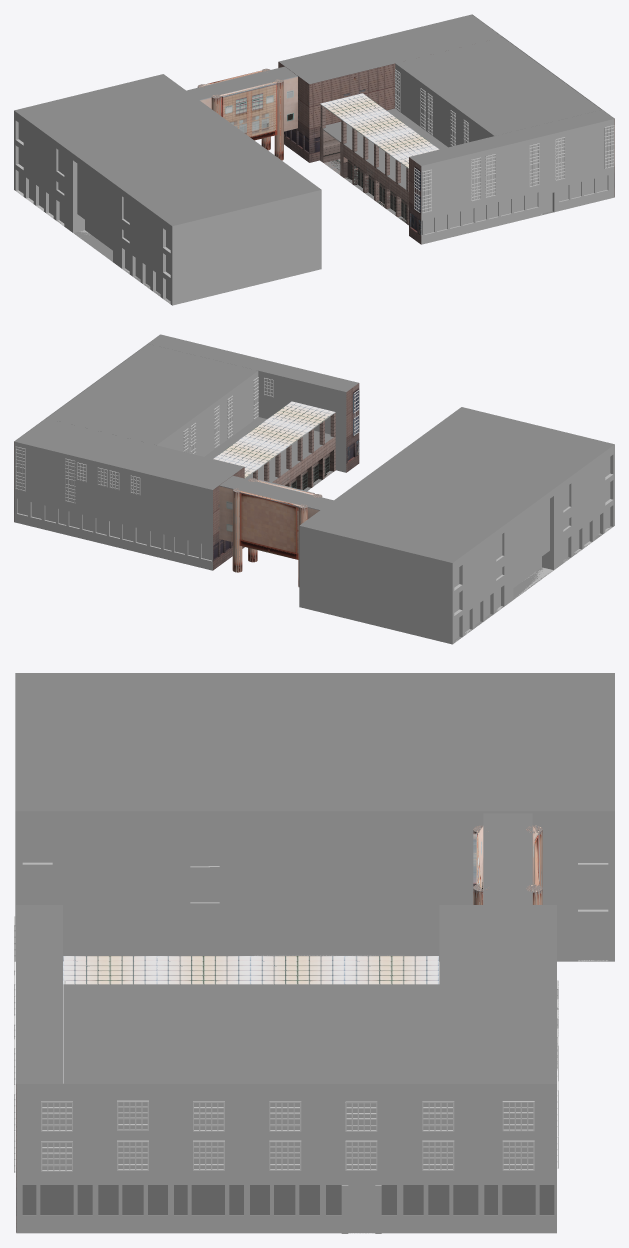
Rendered from DesignBuildings.FBX.
3 views of the same model, one above another, from view 1: azimuth 30°, elevation 25°; view 2: azimuth 150°, elevation 25°; view 3: azimuth 270°, elevation 25° (orthographic). The views are drawn at different scales.
Visible parts, largest first — view 1: CDS, Box002, Box003, Box004, Box001, Box006, Box017, Box016, Box018, Cylinder001; view 2: CDS, Box004, Box003, Box002, Box001, Box006, Box017, Box018, Box019, Cylinder003; view 3: CDS, Box005, Box003, Box004, Box002, Box001, Box019, Box018, Box017, Box016.
Boxes of the visible parts, x1,y1,x2,y2 form: CDS: (14,74,321,305); Box002: (409,110,614,244); Box003: (395,37,601,147); Box004: (278,14,502,162); Box001: (186,66,297,140); Box006: (320,108,447,225); Box017: (345,111,412,139); Box016: (320,93,387,121); Box018: (369,129,436,158); Cylinder001: (274,79,283,160); CDS: (299,407,614,644); Box004: (14,418,244,570); Box003: (46,344,258,456); Box002: (148,334,359,472); Box001: (219,476,333,559); Box006: (204,417,335,490); Box017: (216,438,284,467); Box018: (241,420,309,449); Box019: (266,401,335,430); Cylinder003: (232,488,242,572); CDS: (15,673,614,961); Box005: (16,1083,556,1233); Box003: (63,984,439,1083); Box004: (439,905,556,1083); Box002: (16,905,62,1232); Box001: (473,813,539,904); Box019: (63,956,157,984); Box018: (157,956,250,984); Box017: (251,956,344,984); Box016: (345,956,438,984).
Size of the model in its own units: 207 by 35.34 by 128.
